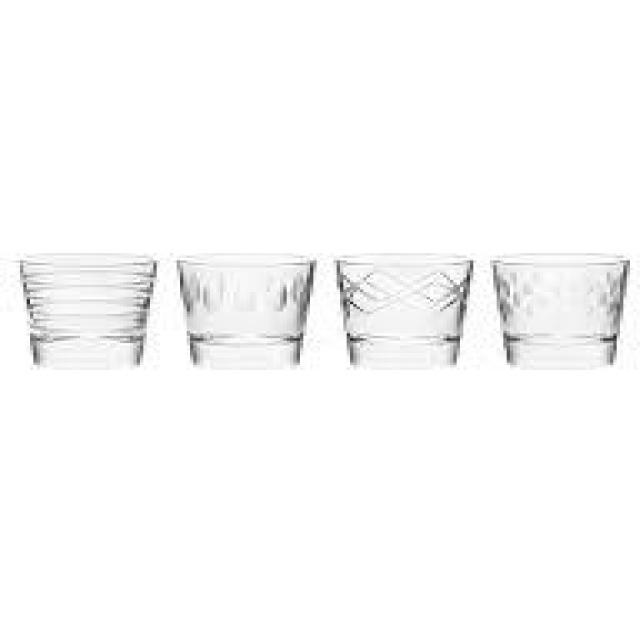Glass: (331, 252, 478, 372), (490, 252, 630, 371), (173, 255, 320, 368), (16, 255, 160, 368)
